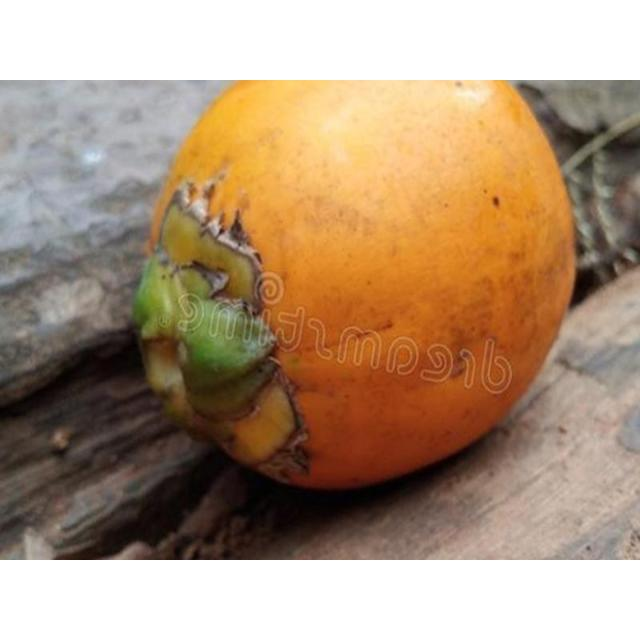good: (132, 80, 578, 495)
